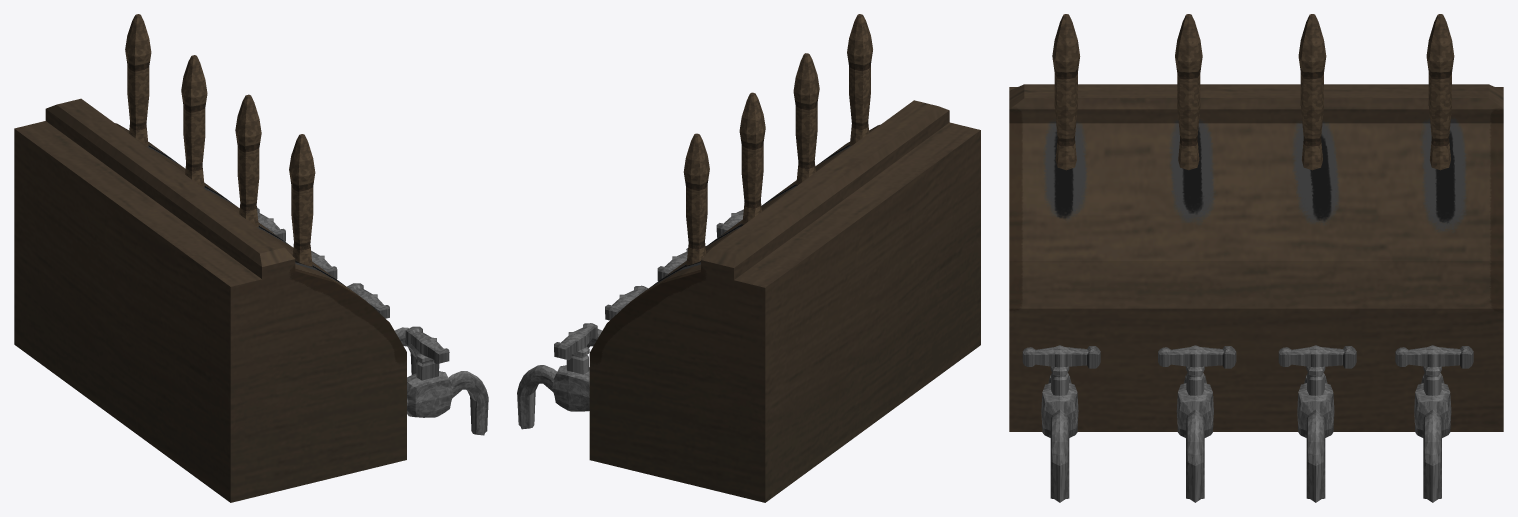
File: beer_tap.fbx
3 views of the same model, side by side, from view 1: azimuth 30°, elevation 25°; view 2: azimuth 150°, elevation 25°; view 3: azimuth 270°, elevation 25° (orthographic). The views are drawn at different scales.
Parts seen in each view (by area): view 1: Cube, Cube.004, Cube.008, Cube.005, Cube.006, Cube.007, Cube.001; view 2: Cube, Cube.003, Cube.007, Cube.006, Cube.005, Cube.008, Cube.002; view 3: Cube, Cube.004, Cube.002, Cube.003, Cube.001, Cube.008, Cube.005, Cube.006, Cube.007.
Boxes of the visible parts, x1,y1,x2,y2 form: Cube: (14,98,406,502); Cube.004: (405,326,488,435); Cube.008: (289,134,315,266); Cube.005: (235,94,261,227); Cube.006: (181,55,207,187); Cube.007: (125,14,151,146); Cube.001: (347,283,418,374); Cube: (589,100,980,502); Cube.003: (517,323,597,429); Cube.007: (683,133,709,265); Cube.006: (739,92,765,224); Cube.005: (793,53,819,185); Cube.008: (847,14,872,145); Cube.002: (586,285,648,347); Cube: (1009,84,1503,431); Cube.004: (1022,345,1100,502); Cube.002: (1278,345,1356,502); Cube.003: (1395,345,1473,502); Cube.001: (1158,345,1236,502); Cube.008: (1052,14,1080,170); Cube.005: (1175,14,1202,170); Cube.006: (1298,14,1326,170); Cube.007: (1426,14,1454,170).
Size of the model in its own units: 491 by 567 by 658.
